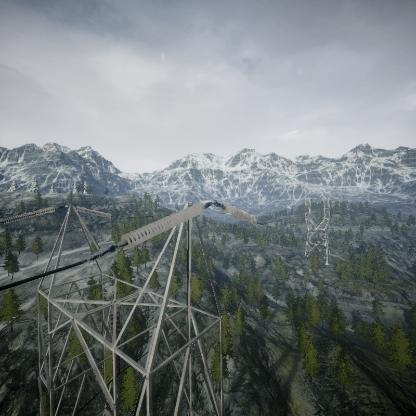insulator: (115, 201, 207, 250), (0, 206, 57, 229), (220, 202, 260, 225), (76, 206, 112, 219)
